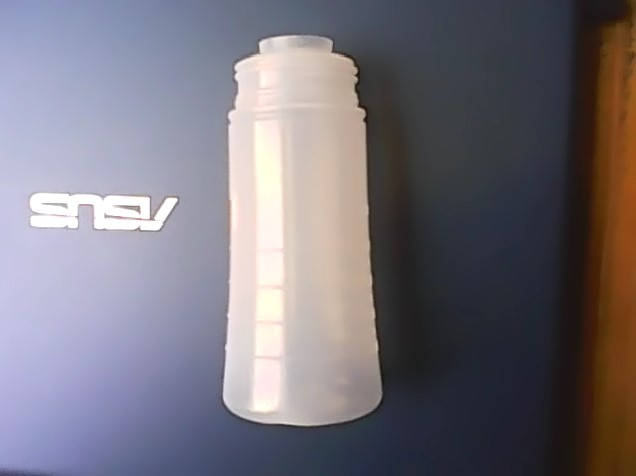Plastic: (219, 33, 386, 426)
